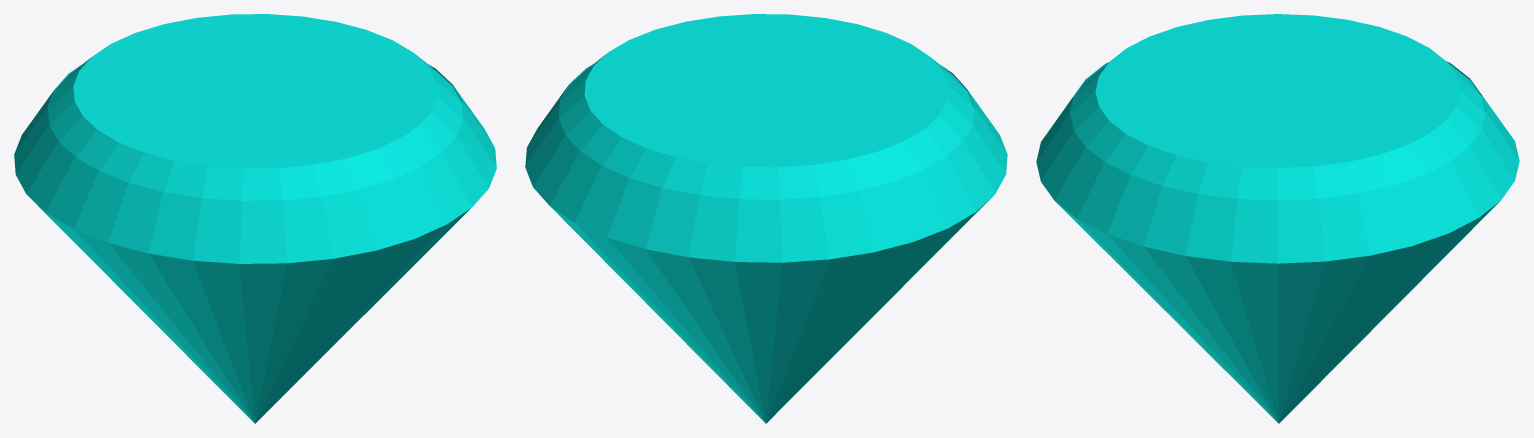
Rendered from diamante.fbx.
3 renders of one model, left to right at view 1: azimuth 30°, elevation 25°; view 2: azimuth 150°, elevation 25°; view 3: azimuth 270°, elevation 25°, orthographic.
Visible parts, largest first — view 1: Cone; view 2: Cone; view 3: Cone.
Boxes of the visible parts, x1,y1,x2,y2 form: Cone: [14, 14, 496, 423]; Cone: [525, 14, 1007, 423]; Cone: [1036, 14, 1519, 423].
Size of the model in its own units: 26.89 by 20.45 by 26.89.
